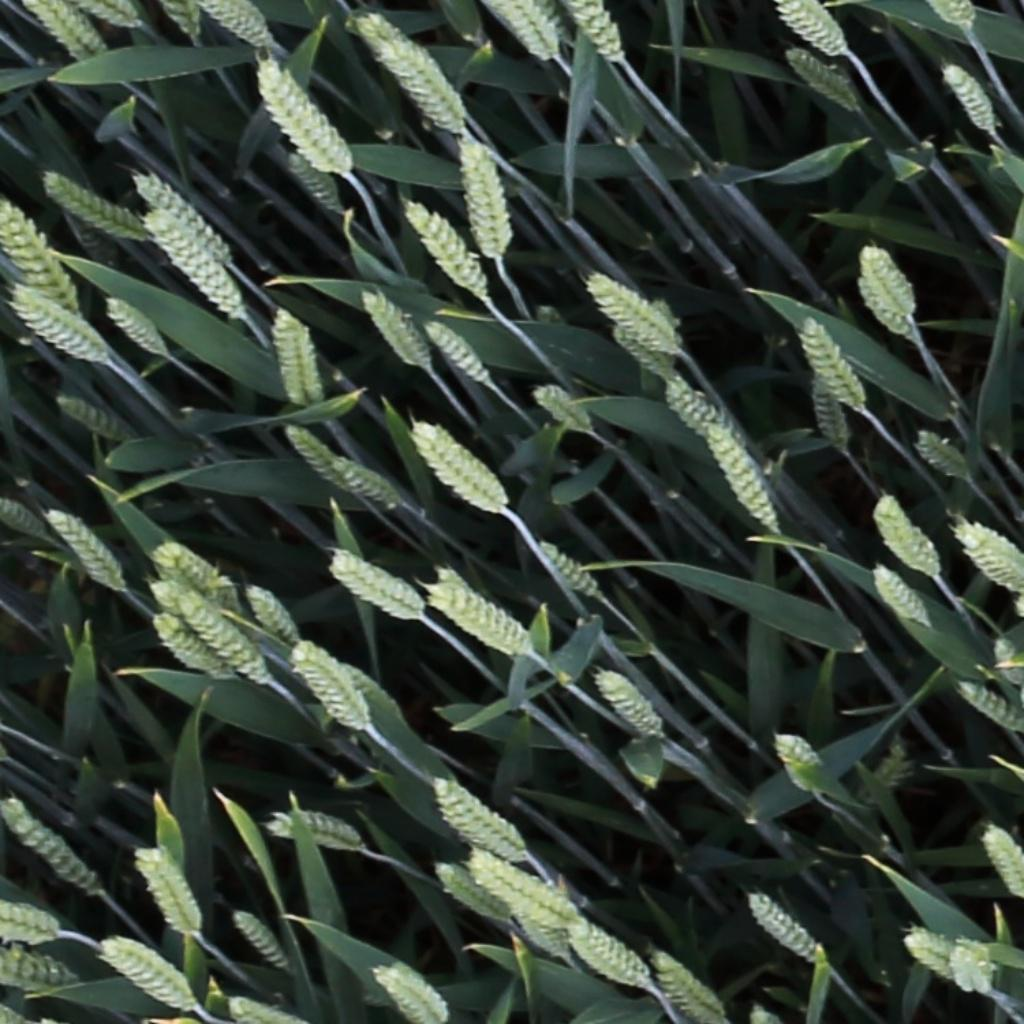0-0: (361, 17, 465, 137), (140, 206, 247, 322), (251, 60, 346, 177), (424, 570, 534, 665), (0, 192, 81, 318), (129, 167, 232, 262), (0, 800, 101, 896), (170, 589, 270, 685), (397, 195, 488, 299), (410, 421, 507, 517), (700, 421, 780, 535), (430, 774, 532, 858), (13, 288, 114, 371), (40, 170, 151, 242), (327, 550, 424, 628), (469, 857, 577, 927), (43, 505, 125, 596), (99, 937, 196, 1011), (585, 271, 675, 350), (798, 312, 868, 412), (457, 137, 512, 263), (289, 645, 370, 730), (133, 847, 204, 940), (664, 378, 752, 450), (279, 420, 359, 498), (357, 286, 430, 371), (567, 916, 652, 986), (872, 492, 940, 578), (952, 516, 1024, 593), (151, 544, 237, 607), (745, 892, 821, 963), (271, 304, 321, 411), (648, 951, 723, 1021), (592, 669, 664, 741), (148, 613, 223, 682), (420, 316, 491, 387), (939, 58, 1000, 139), (906, 929, 988, 987), (226, 906, 292, 976), (783, 46, 857, 107), (279, 144, 342, 215), (533, 537, 600, 602), (375, 965, 450, 1023), (858, 244, 917, 317), (54, 394, 135, 447), (238, 582, 300, 651), (492, 0, 558, 64), (869, 562, 931, 630), (434, 864, 507, 921), (101, 293, 165, 357), (27, 1, 98, 58), (856, 276, 916, 343), (808, 365, 851, 456), (566, 0, 625, 65), (266, 813, 364, 851), (981, 824, 1024, 907), (778, 1, 843, 55), (608, 322, 670, 378), (330, 456, 398, 507), (957, 684, 1024, 735), (2, 951, 78, 994), (773, 733, 828, 789), (0, 899, 62, 948), (0, 494, 54, 550), (203, 1, 268, 47), (531, 383, 592, 431), (913, 430, 970, 480), (516, 914, 576, 958), (948, 935, 991, 996), (223, 996, 294, 1024), (162, 0, 203, 47), (145, 570, 186, 608), (79, 0, 133, 25), (935, 0, 973, 30)
